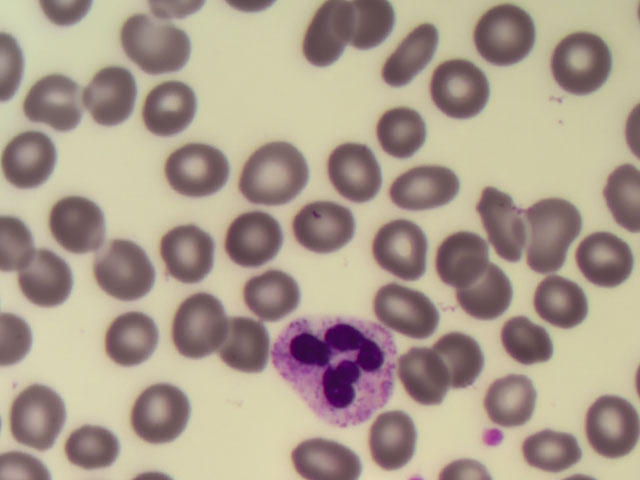Platelets: (478, 424, 504, 444)
RBC: (23, 69, 87, 132), (7, 124, 71, 187), (50, 193, 114, 256), (10, 243, 74, 306), (91, 236, 155, 299), (154, 222, 218, 285), (166, 140, 230, 203), (144, 74, 208, 137), (75, 55, 139, 118), (119, 11, 183, 74), (292, 5, 356, 68), (382, 19, 446, 82), (430, 51, 494, 114), (484, 3, 548, 66), (544, 25, 608, 88), (371, 95, 435, 158), (332, 137, 396, 200), (245, 140, 309, 203), (223, 198, 287, 261), (238, 264, 302, 327), (210, 312, 274, 375), (173, 295, 237, 358), (94, 311, 158, 374), (130, 375, 194, 438), (52, 416, 116, 479), (7, 383, 71, 446), (284, 417, 348, 480), (356, 406, 420, 469), (386, 342, 450, 405), (432, 325, 496, 388), (374, 272, 438, 335), (363, 219, 427, 282), (429, 223, 493, 286), (398, 157, 462, 220), (470, 180, 534, 243), (523, 188, 587, 251), (566, 218, 630, 281), (539, 266, 603, 329), (496, 303, 560, 366), (454, 261, 518, 324), (488, 351, 552, 414), (521, 412, 585, 475), (576, 384, 640, 447), (340, 1, 404, 63)
WBC: (280, 315, 401, 423)
